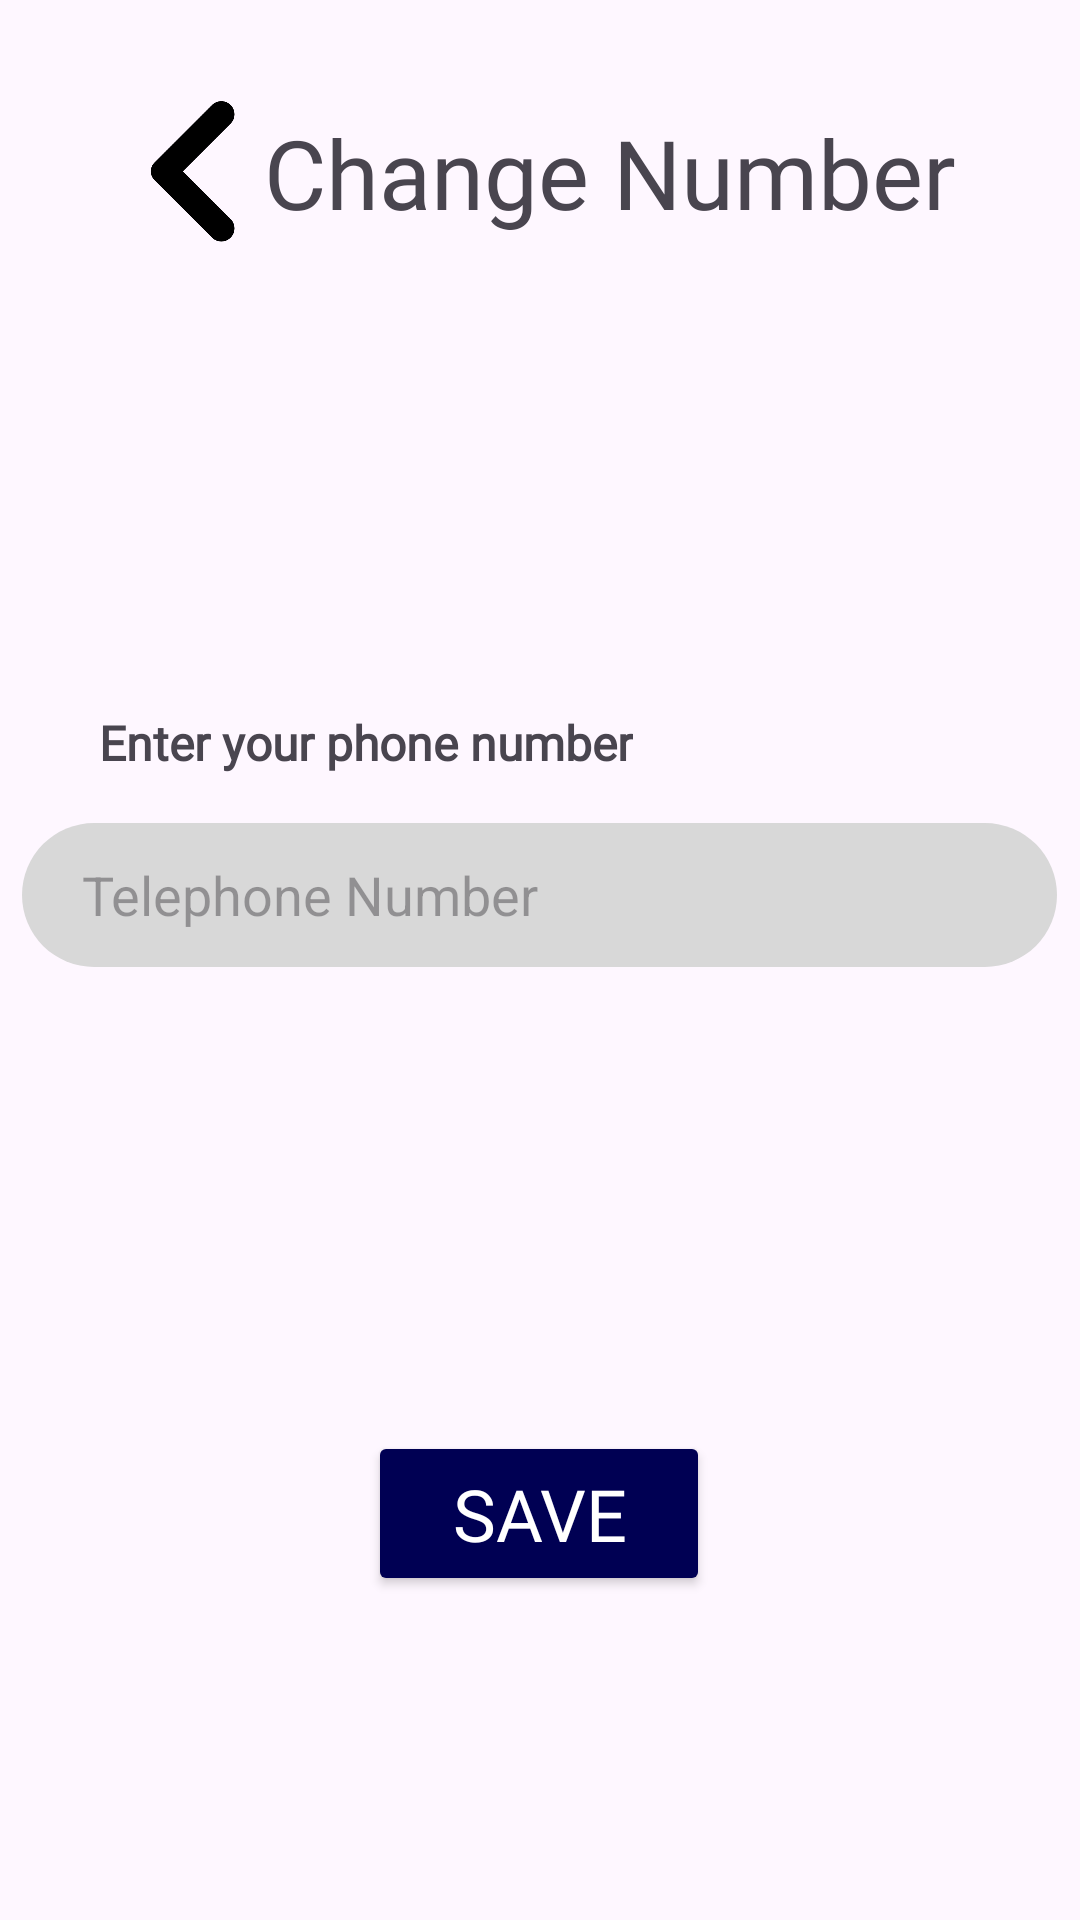

Icon click points for this 1080*1920 phone screenshot, format point (x, y):
back: point (193, 171)
